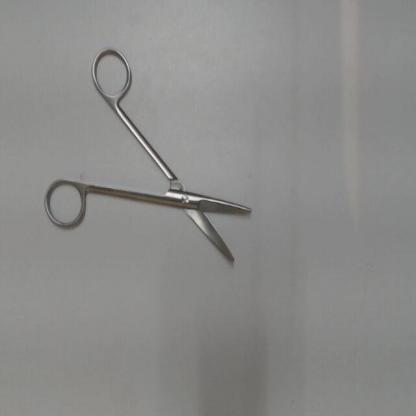Curved Mayo Scissors: (41, 39, 258, 276)
